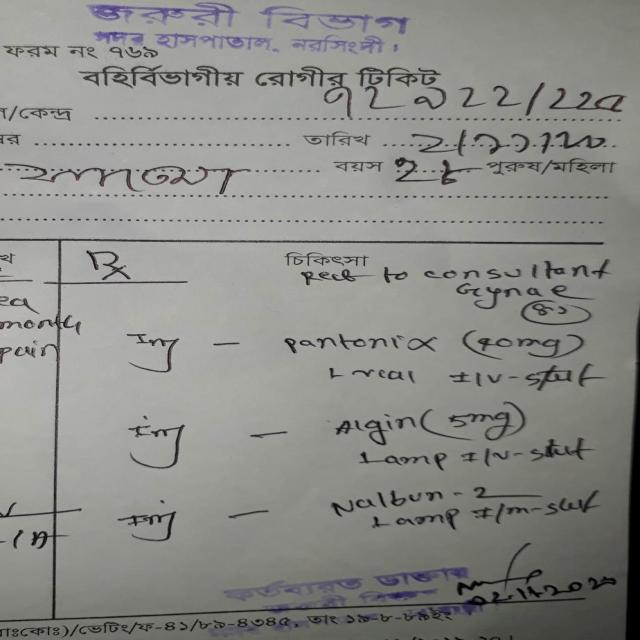Algin: (320, 412, 422, 439)
Nalbun: (319, 488, 458, 516)
Pantonix: (261, 332, 447, 357)
